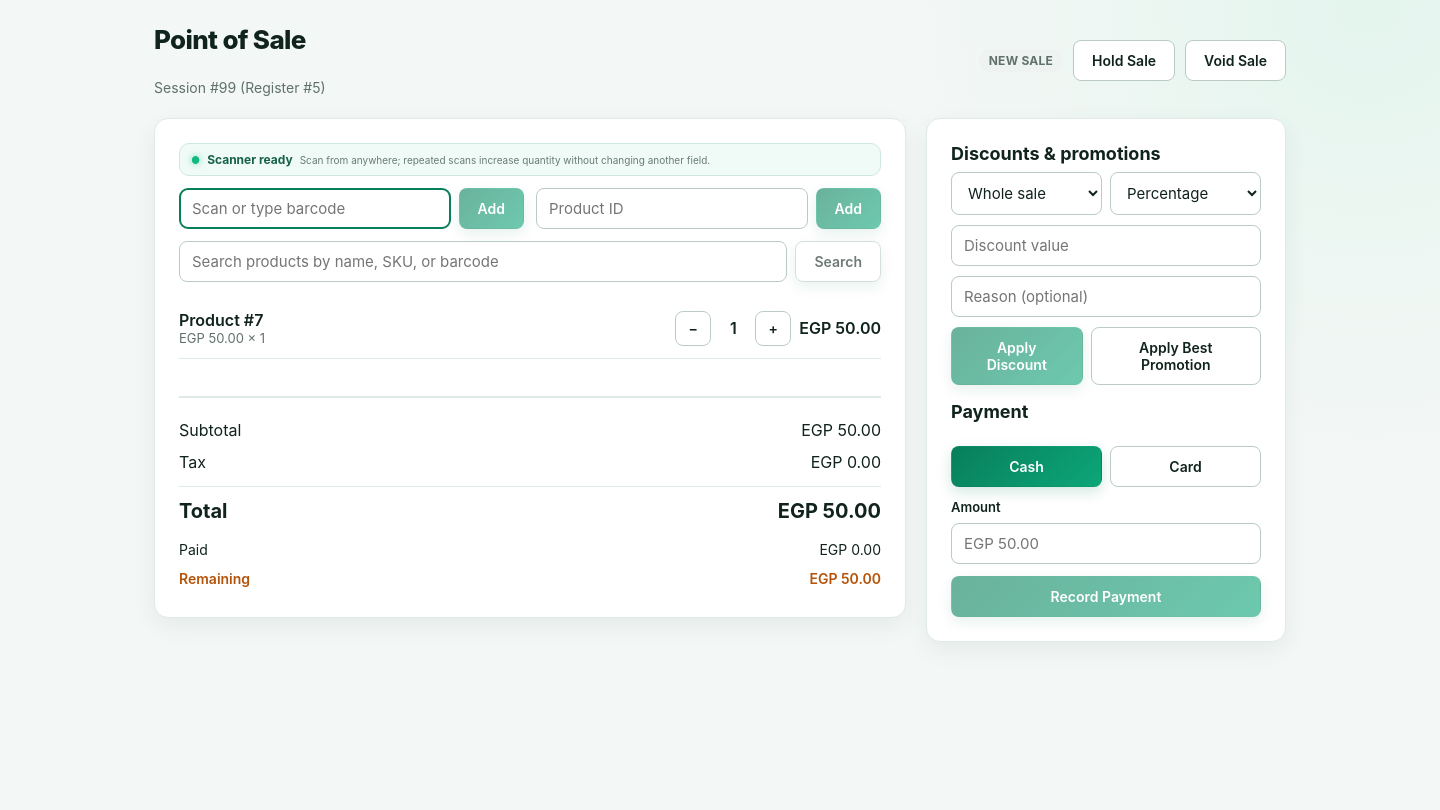
Scenario: PosPage › applies a discount within the cashier threshold
The width and height of the screenshot is (1440, 810).
Type "5" into the number field labelled "Discount value" at [1106, 246], box [951,225,1261,266]
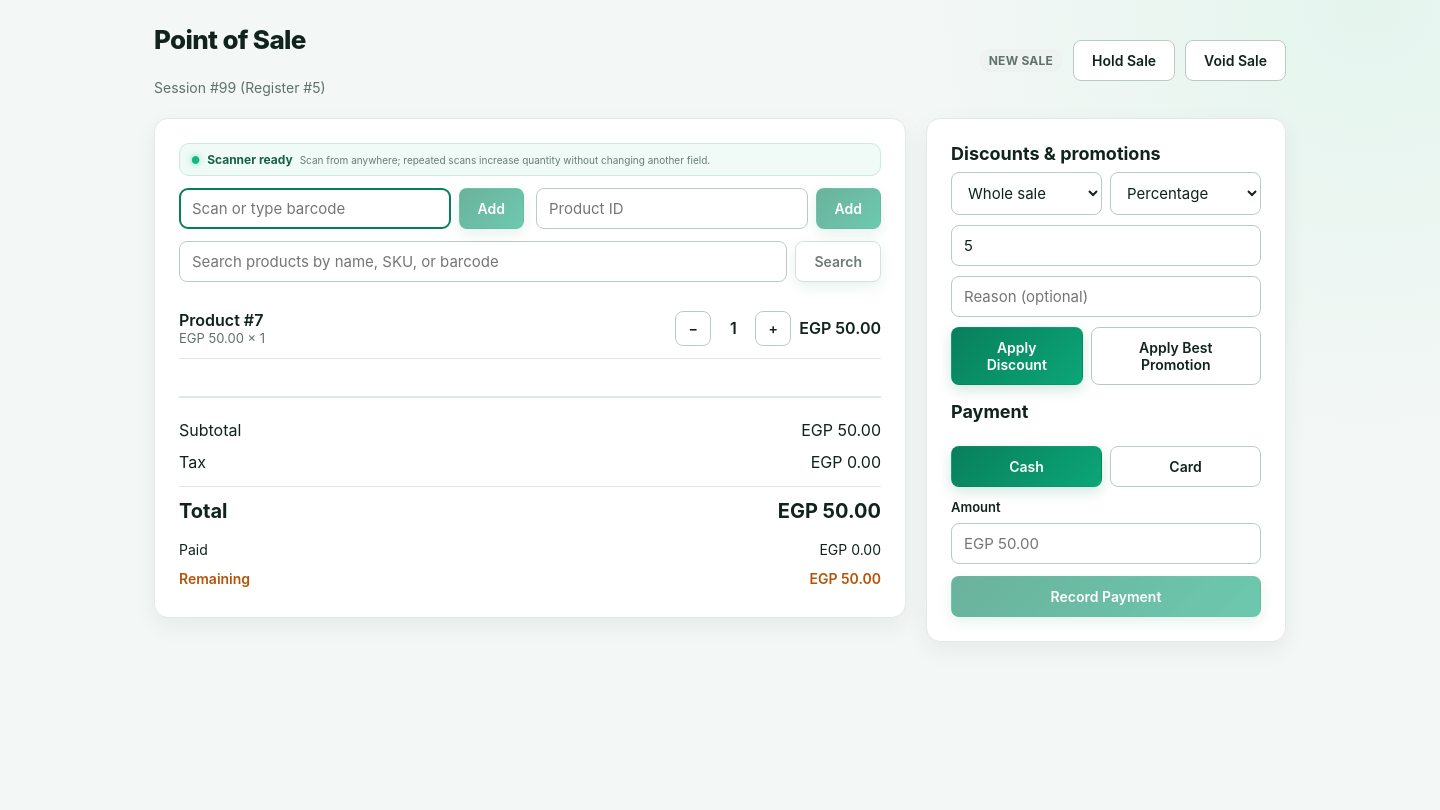
Click the button "Apply Discount" at [1017, 356], box [951,327,1082,385]
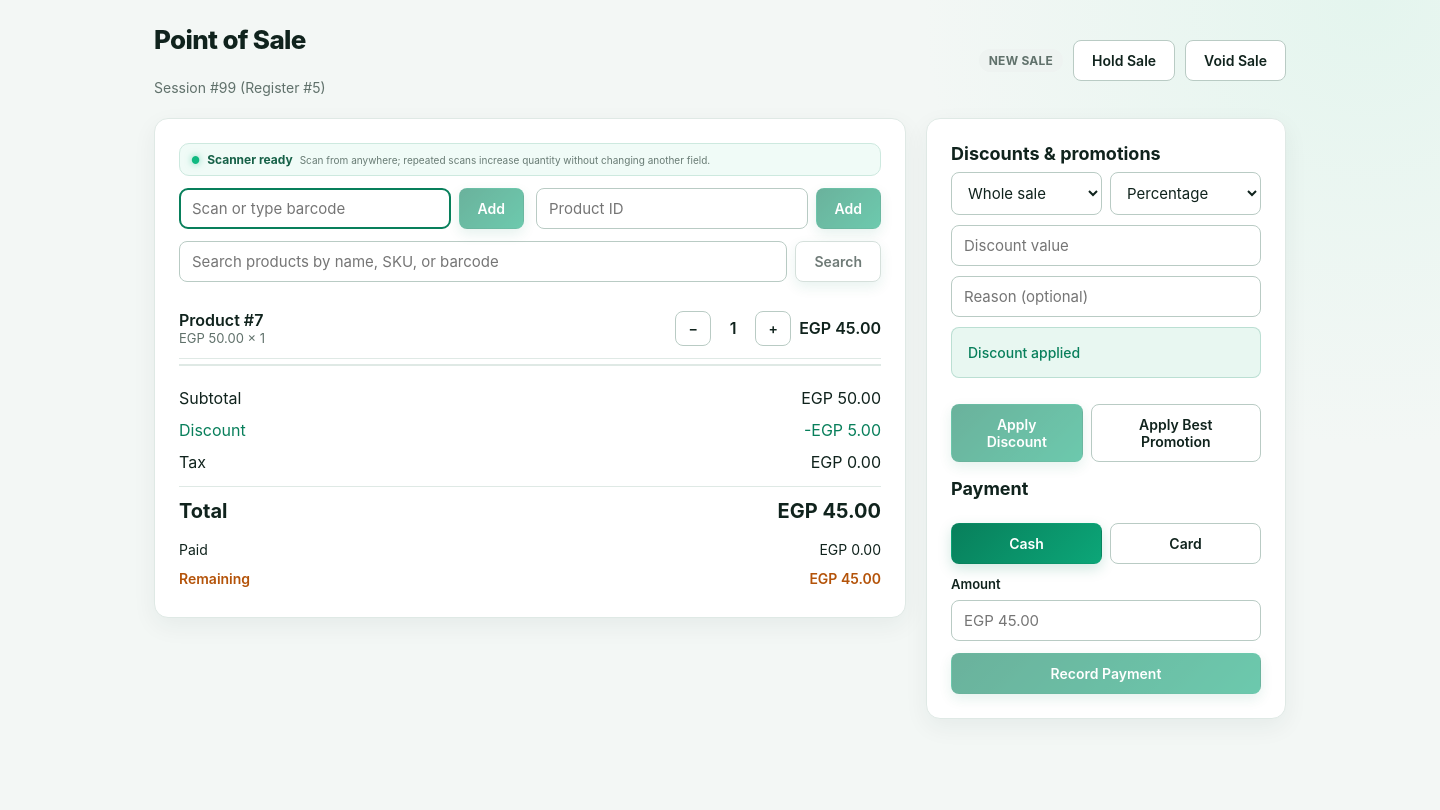
Now the text "Discount applied" is shown, box [951,327,1261,378]
